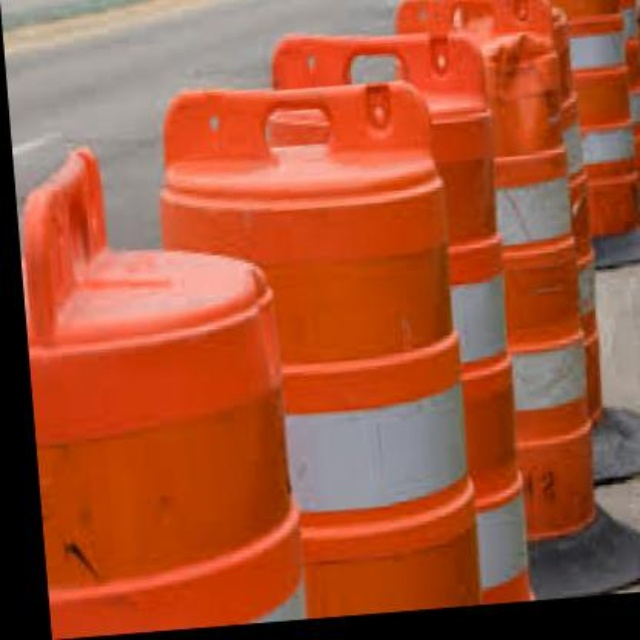obstacle: (251, 113, 469, 624)
